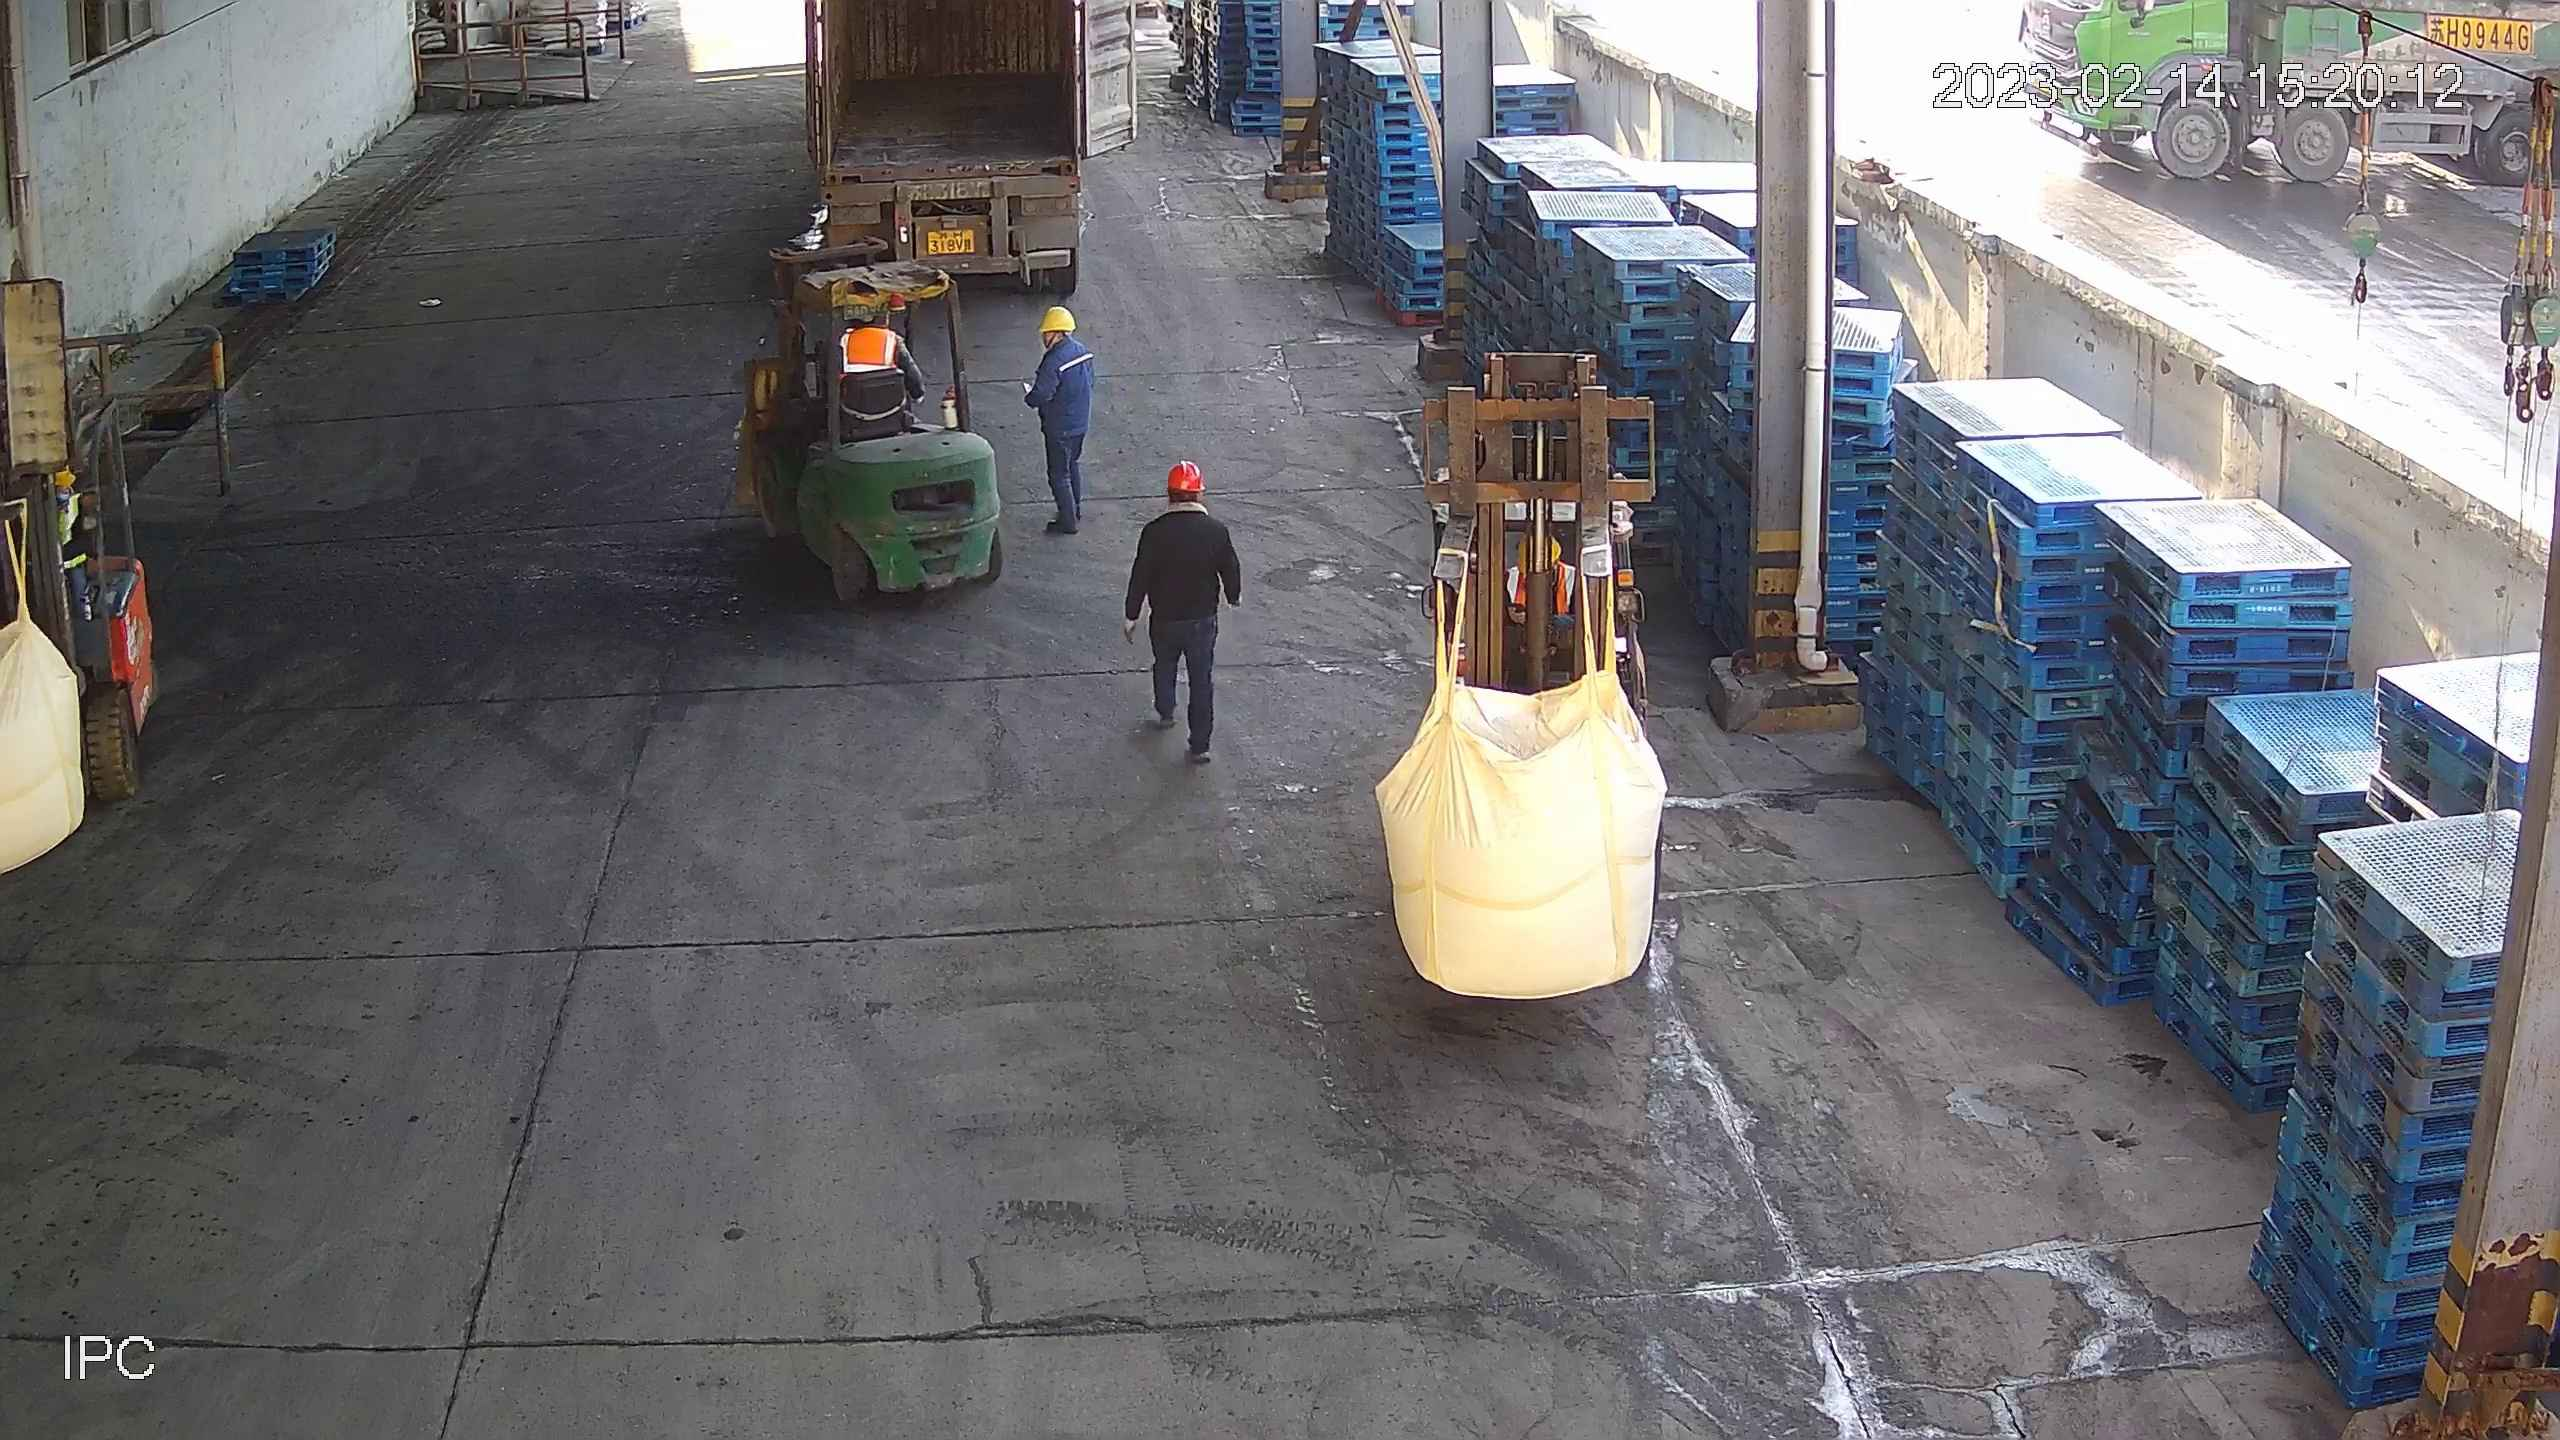head: (1144, 465, 1227, 535), (1032, 309, 1095, 376)
helmet: (1039, 306, 1079, 337), (1167, 460, 1204, 490)
people: (1123, 462, 1241, 772), (1016, 309, 1102, 543)
truck: (784, 2, 1162, 313)
